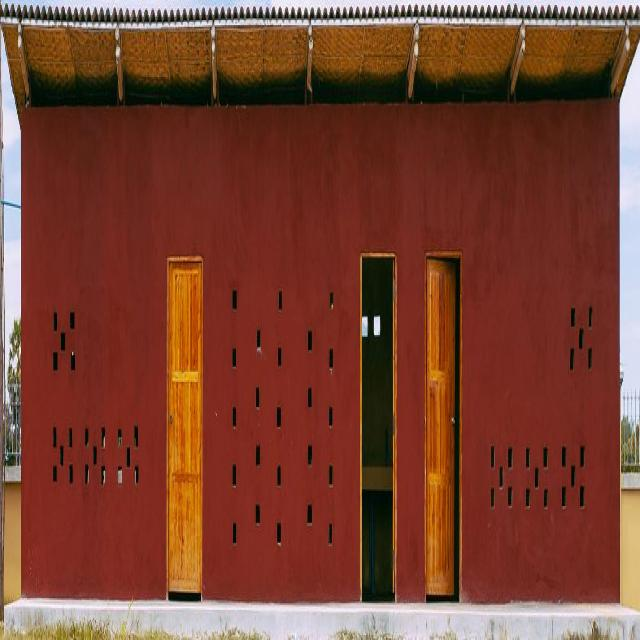door: (167, 243, 204, 604), (424, 258, 464, 591)
